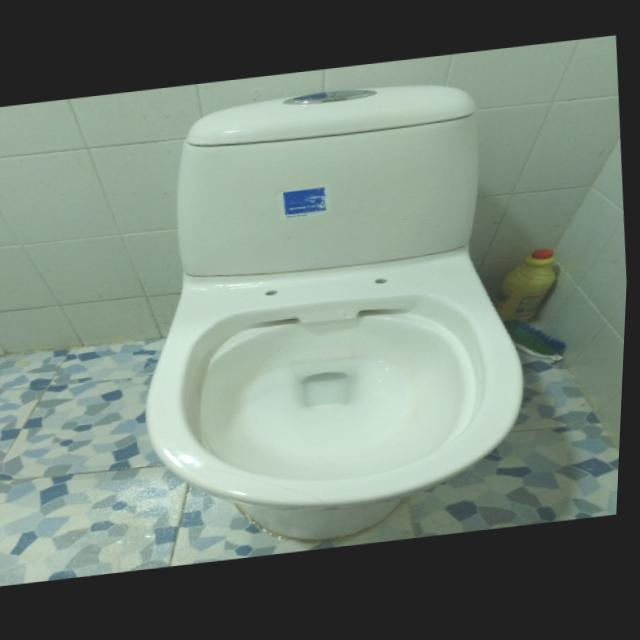toilet: (118, 71, 551, 561)
